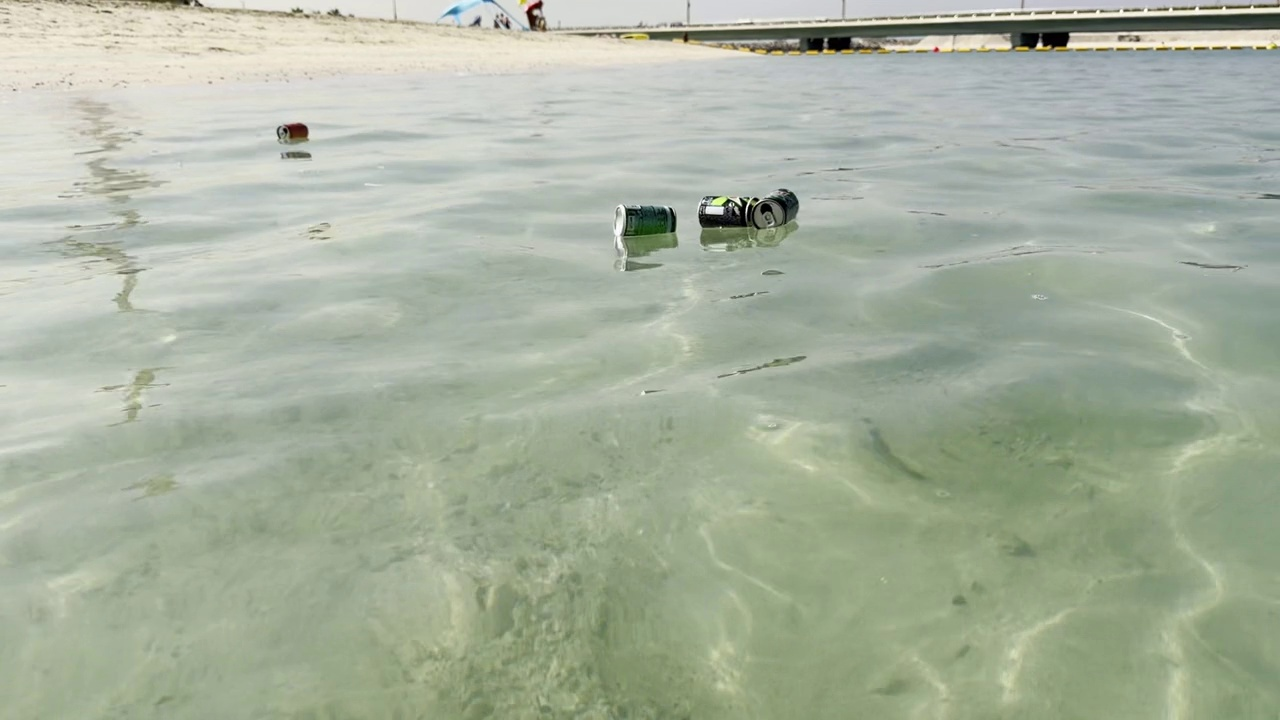debris: (602, 195, 686, 245), (746, 186, 806, 236), (692, 187, 763, 229), (275, 121, 312, 142)
